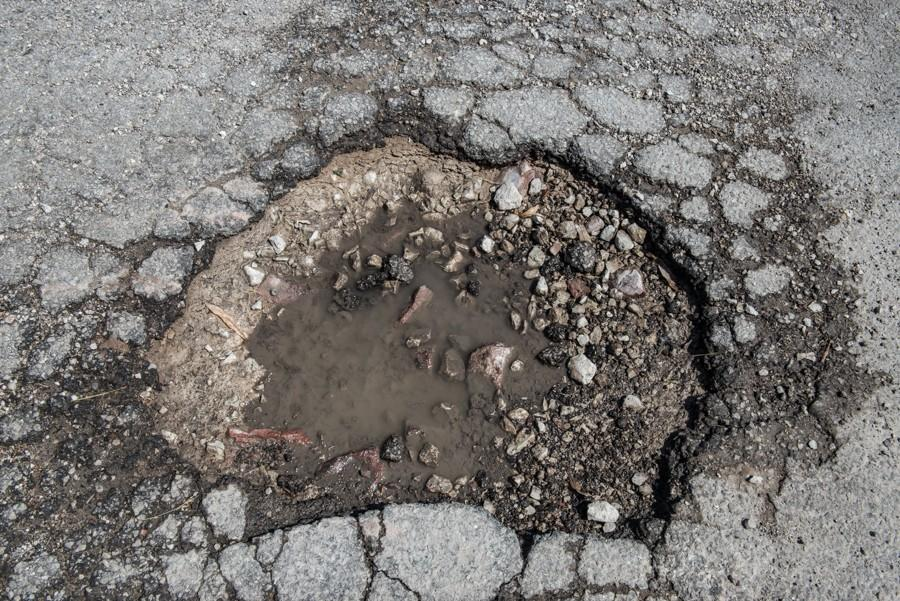Pothole: (135, 77, 710, 554)
